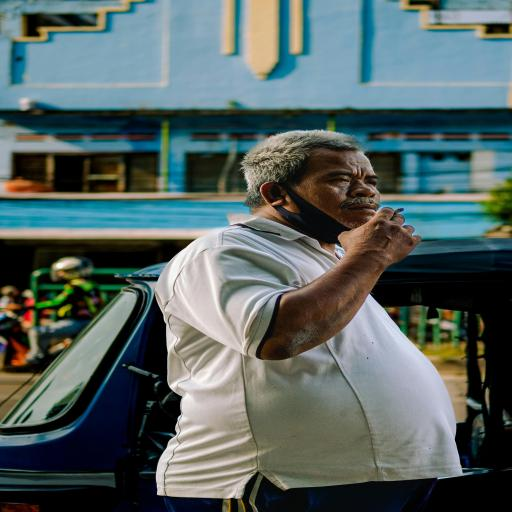pegang rokok: (326, 163, 446, 280)
